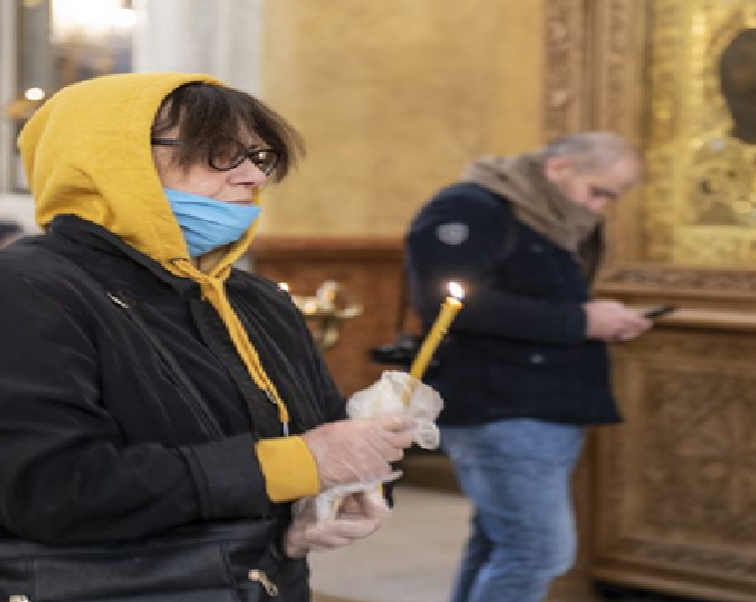mask_weared_incorrect: (26, 72, 285, 257)
